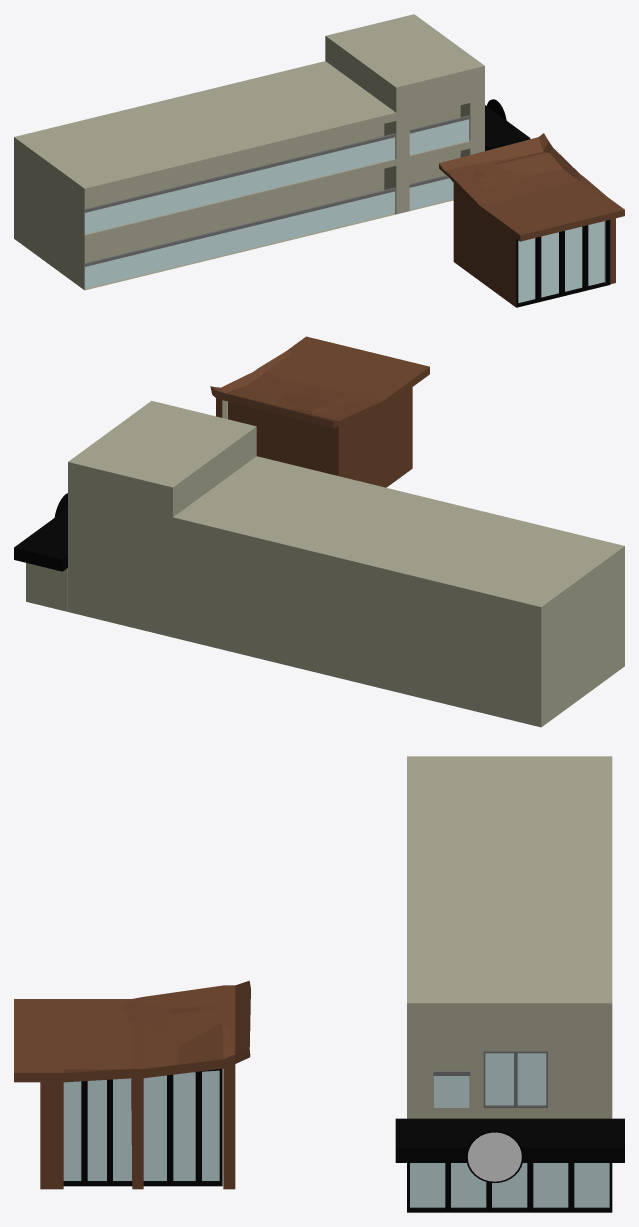
The model's file is PancakeParadise.fbx.
3 renders of one model, top to bottom at view 1: azimuth 30°, elevation 25°; view 2: azimuth 150°, elevation 25°; view 3: azimuth 270°, elevation 25°, orthographic. The views are drawn at different scales.
Parts seen in each view (by area): view 1: Cube.003, Cube.002, Cube.001; view 2: Cube.003, Cube.002, Cube.001, Cube; view 3: Cube.003, Cube.002, Cube, Cube.001, Circle.
Boxes of the visible parts, <box> form: Cube.003: <box>14,61,624,307</box>; Cube.002: <box>84,14,484,288</box>; Cube.001: <box>485,105,530,150</box>; Cube.003: <box>173,336,624,727</box>; Cube.002: <box>68,400,256,637</box>; Cube.001: <box>14,508,67,571</box>; Cube: <box>26,563,67,611</box>; Cube.003: <box>14,756,612,1189</box>; Cube.002: <box>407,940,612,1118</box>; Cube: <box>407,1163,612,1212</box>; Cube.001: <box>395,1118,624,1162</box>; Circle: <box>467,1132,521,1181</box>.
Bounding box in the file's own units: 2510 × 687 × 2065.
